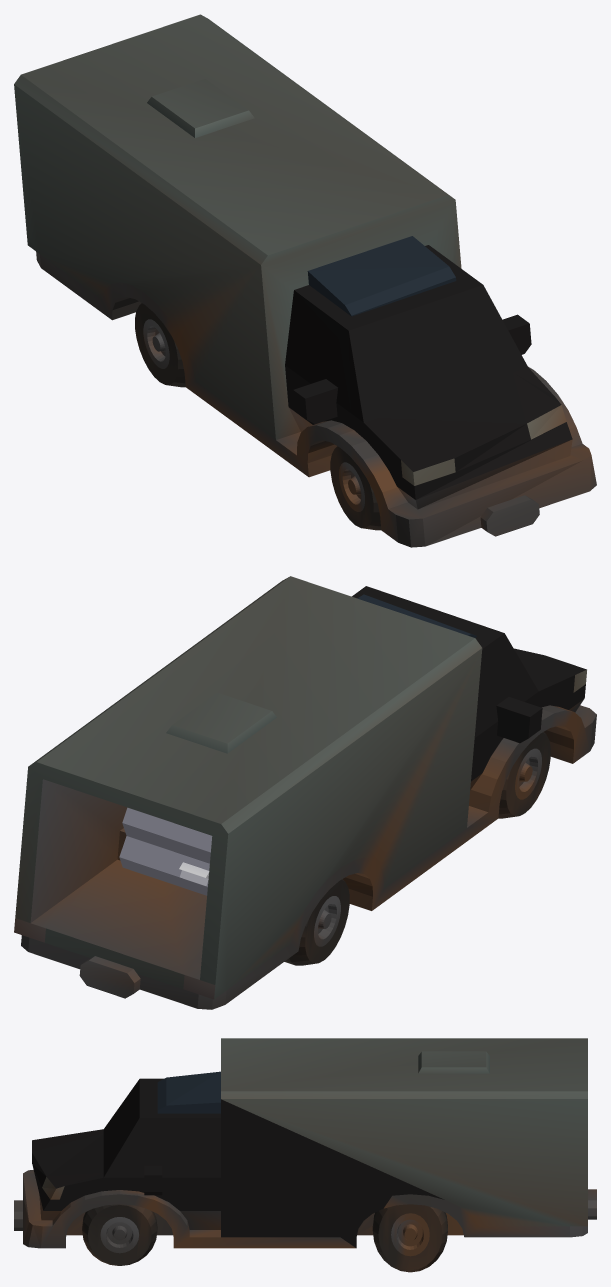
Rendered from delivery_wreck.glb.
3 renders of one model, top to bottom at view 1: azimuth 30°, elevation 25°; view 2: azimuth 150°, elevation 25°; view 3: azimuth 270°, elevation 25°, orthographic. The views are drawn at different scales.
Parts seen in each view (by area): view 1: delivery_wreck; view 2: delivery_wreck; view 3: delivery_wreck.
Boxes of the visible parts, bbox=[...] form: delivery_wreck: bbox=[14, 14, 596, 547]; delivery_wreck: bbox=[14, 576, 596, 1009]; delivery_wreck: bbox=[14, 1038, 596, 1272].
Bounding box in the file's own units: 1.73 × 1.81 × 5.2.
